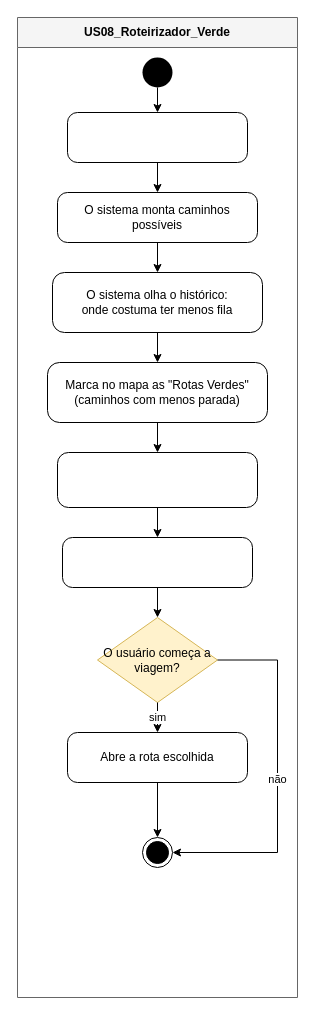
Some shapes in this 315 by 1015 pixel diagram are drawn without their labels. Here are the shapes that lost their labels. From the top down, the centre of each, then its label:
At point 157,137: "O usuário digita para onde vai".
At point 157,480: "Calcula quanto CO2 pode ser evitado antes de sair".
At point 157,562: "Mostra o mapa e esses números".
